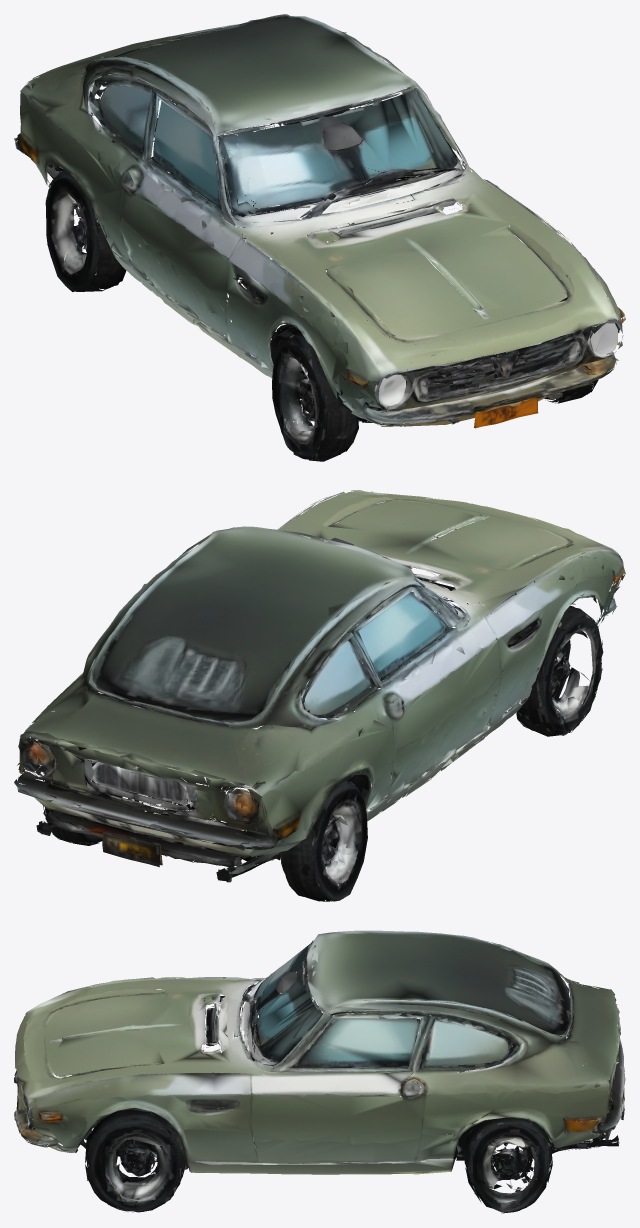
Rendered from car_1790371298_12313636.glb.
The picture shows the model from 3 angles, top to bottom: view 1: azimuth 30°, elevation 25°; view 2: azimuth 150°, elevation 25°; view 3: azimuth 270°, elevation 25°; orthographic projection. The views are drawn at different scales.
Visible parts, largest first — view 1: Hero; view 2: Hero; view 3: Hero.
Boxes of the visible parts, x1,y1,x2,y2 form: Hero: (14, 14, 625, 461); Hero: (14, 490, 625, 901); Hero: (14, 930, 625, 1213).
Bounding box in the file's own units: 0.6062 × 0.4992 × 1.4.
1 material, 1 textured.
